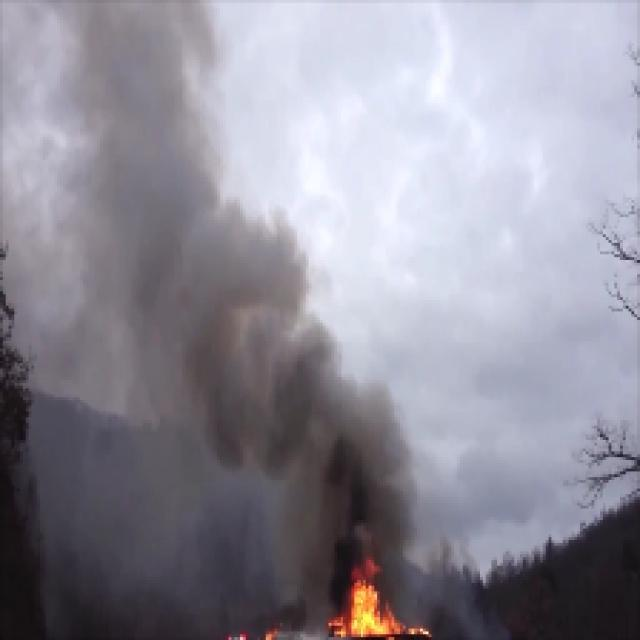Fire: (340, 576, 405, 638)
Smoke: (66, 4, 210, 296), (216, 226, 294, 454), (315, 392, 395, 563)
